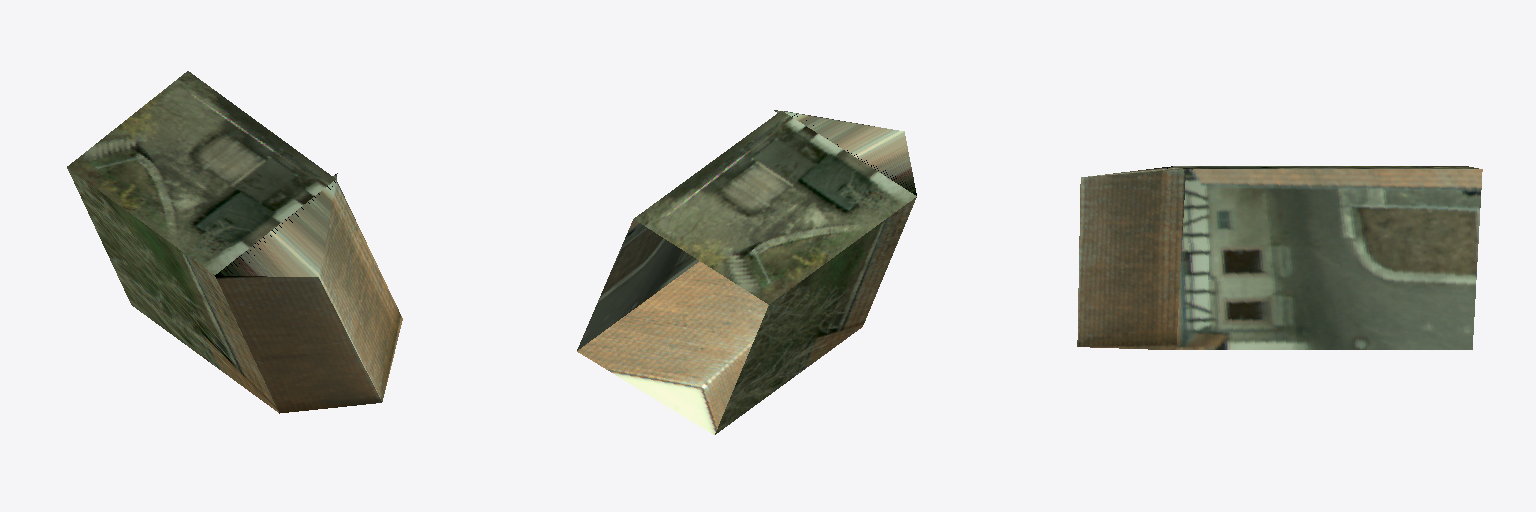
3 views of the same model, side by side, from view 1: azimuth 30°, elevation 25°; view 2: azimuth 150°, elevation 25°; view 3: azimuth 270°, elevation 25° (orthographic).
Bounding box in the file's own units: 11.11 × 11.78 × 20.5.
Materials: 1 (1 with a texture image).